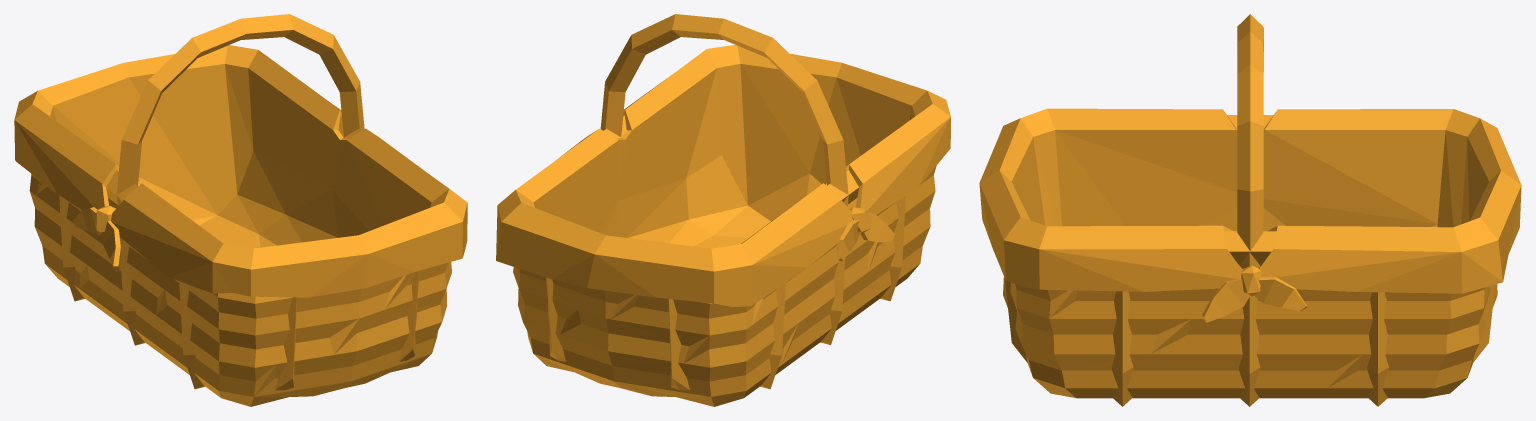
The model's file is SM_Basket_B_Farm.fbx.
3 views of the same model, side by side, from view 1: azimuth 30°, elevation 25°; view 2: azimuth 150°, elevation 25°; view 3: azimuth 270°, elevation 25° (orthographic). The views are drawn at different scales.
Visible parts, largest first — view 1: basket-b-farm; view 2: basket-b-farm; view 3: basket-b-farm.
Boxes of the visible parts, bbox=[...] form: basket-b-farm: bbox=[14, 14, 467, 406]; basket-b-farm: bbox=[496, 14, 950, 406]; basket-b-farm: bbox=[979, 14, 1521, 406].
Size of the model in its own units: 0.3841 by 0.3689 by 0.5662.
